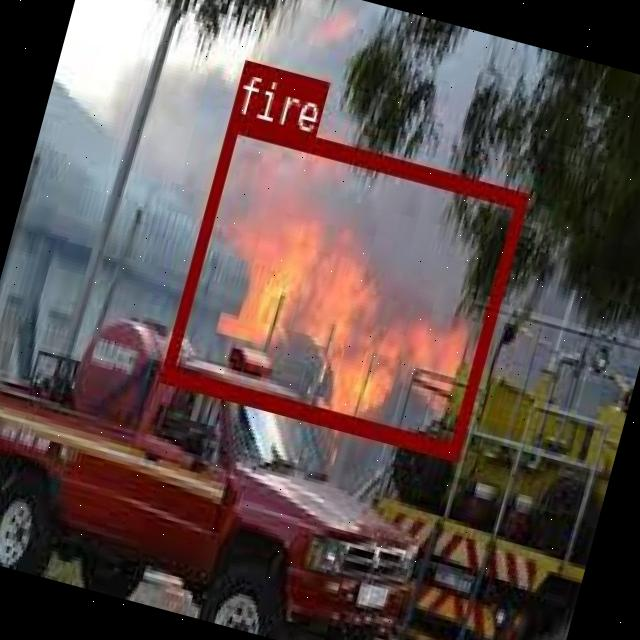fire: (159, 114, 525, 456)
